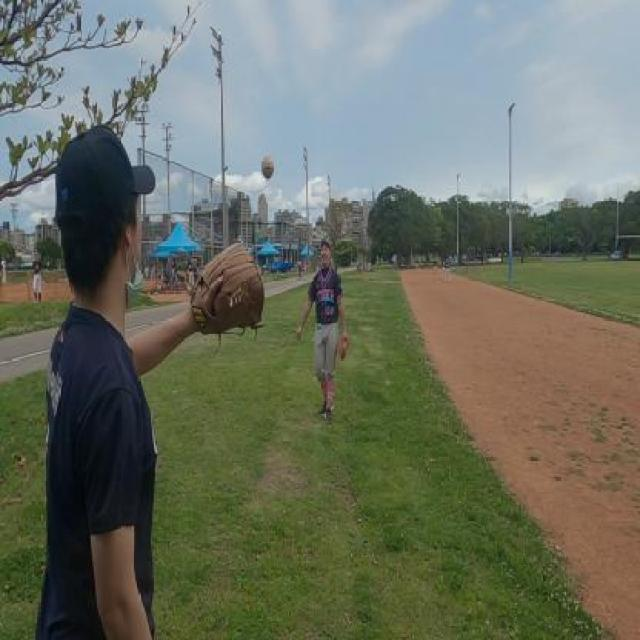baseball: (260, 154, 274, 180)
